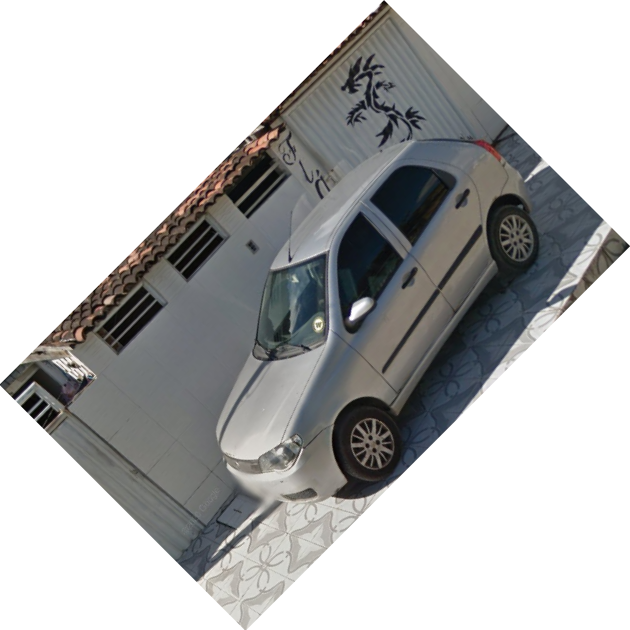car: (216, 136, 541, 502)
